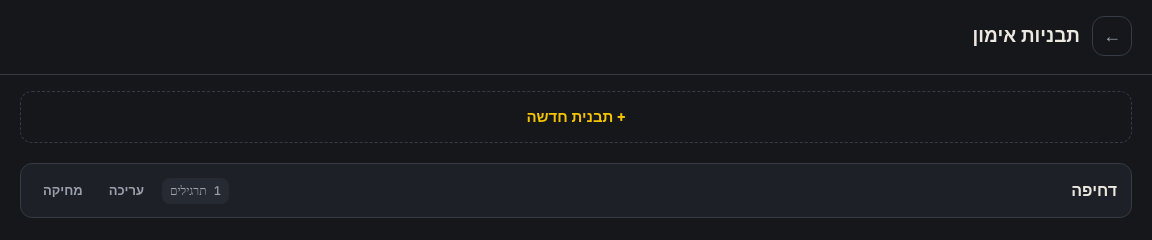
Scenario: RoutinesPage › deletes a routine
The width and height of the screenshot is (1152, 240).
Expected: the text "דחיפה" is shown, [1071,180,1117,200]
Click the button with aria-label "מחיקת דחיפה".
click(63, 190)  # box [35,176,91,205]
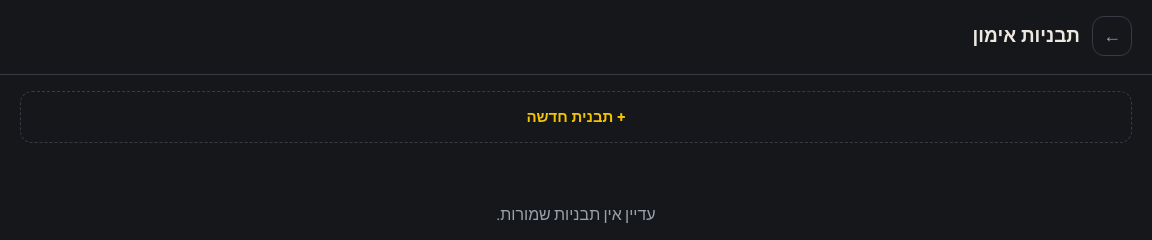
Expected: the text "דחיפה" is gone
